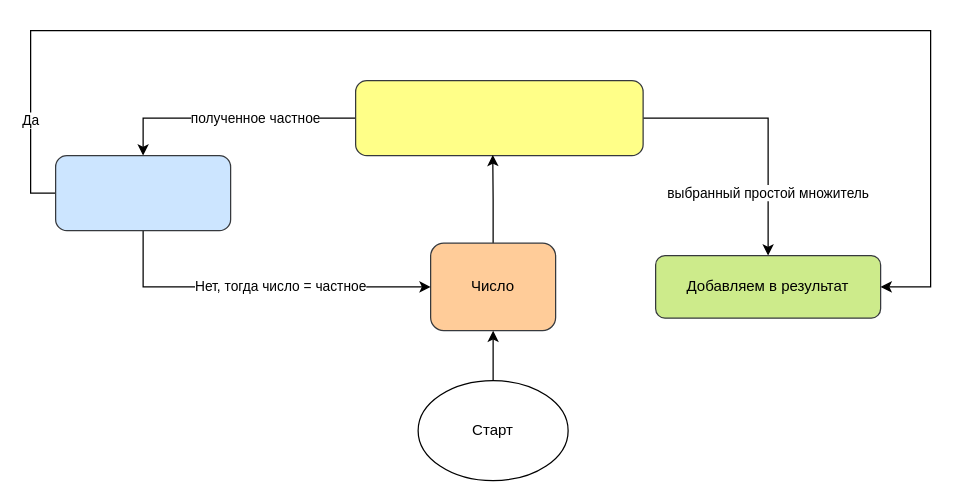
Image size: 963x503. Some labels were removed from this diagram. The shapes that lost their labels are listed below. From the top down, each one's centre as x and y in pixels, then its label:
At (x=498, y=117): "Делим на простой множитель".
At (x=142, y=192): "Частное = 1?".
